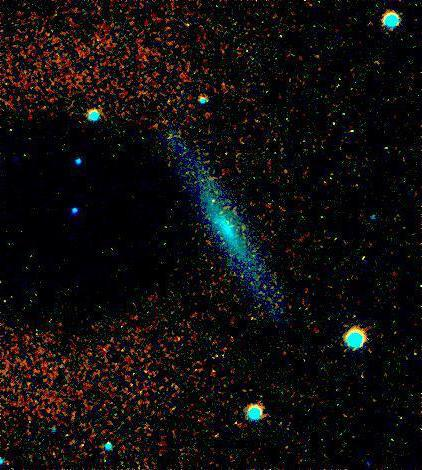star: (188, 189, 218, 219)
